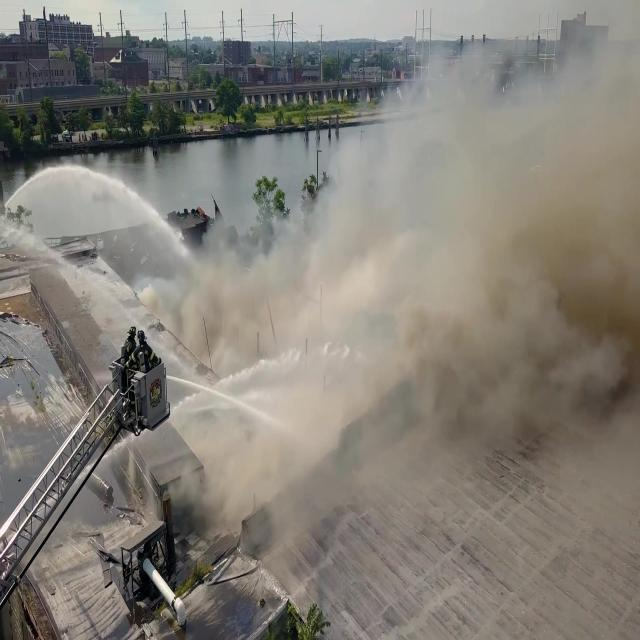Smoke: (131, 64, 636, 554)
